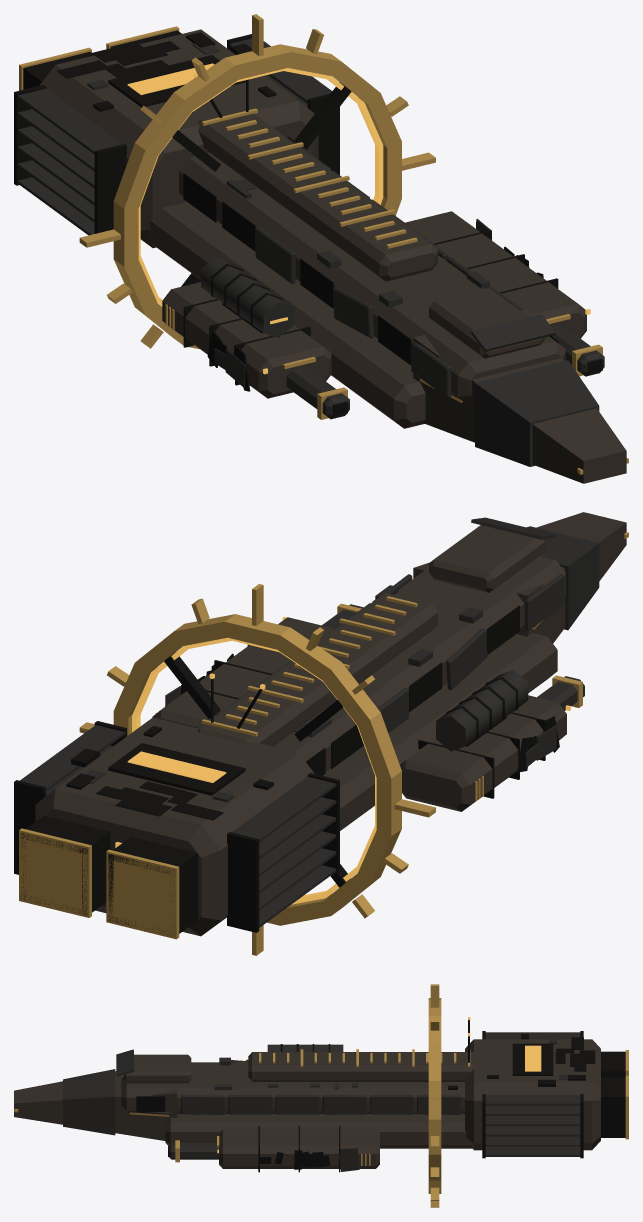
The model's file is goniec-wybudzeni-coalition-13-lod0.glb.
3 renders of one model, top to bottom at view 1: azimuth 30°, elevation 25°; view 2: azimuth 150°, elevation 25°; view 3: azimuth 270°, elevation 25°, orthographic. The views are drawn at different scales.
Bounding box in the file's own units: 5.96 × 5.96 × 15.
